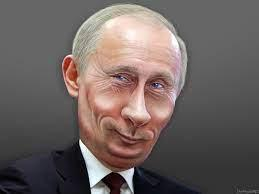Persons: (55, 0, 201, 170)
